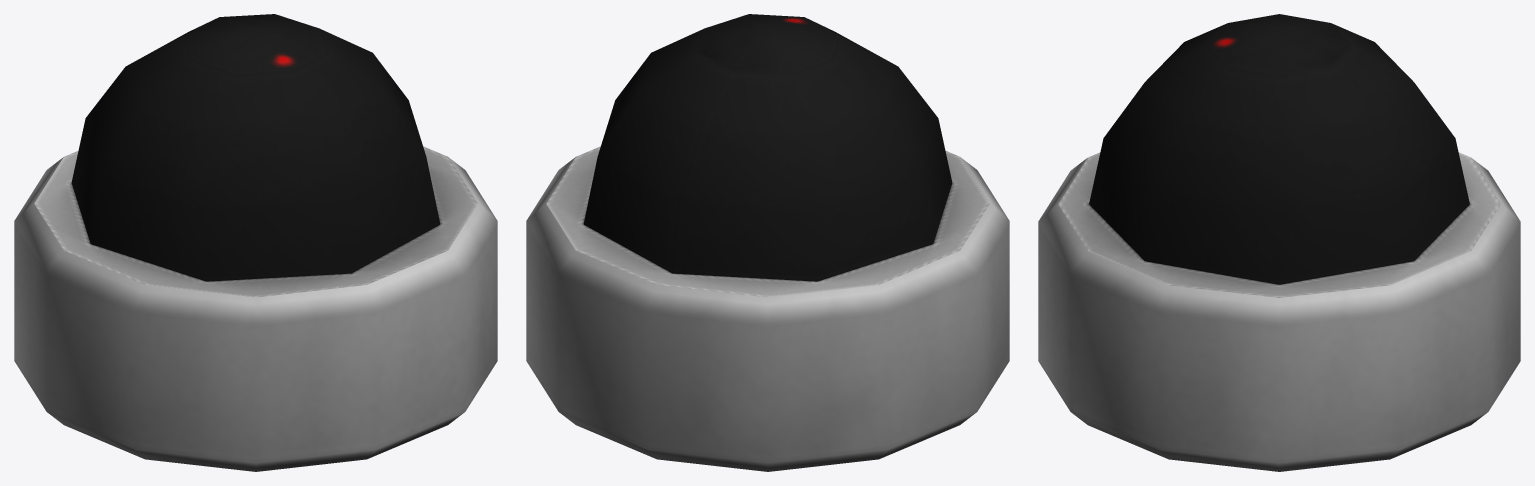
Rendered from securityCamera.fbx.
The picture shows the model from 3 angles, left to right: view 1: azimuth 30°, elevation 25°; view 2: azimuth 150°, elevation 25°; view 3: azimuth 270°, elevation 25°; orthographic projection.
Parts seen in each view (by area): view 1: securityCamera; view 2: securityCamera; view 3: securityCamera.
Part boxes in pixels (bbox=[...]): securityCamera: bbox=[14, 14, 497, 471]; securityCamera: bbox=[526, 14, 1009, 471]; securityCamera: bbox=[1038, 14, 1520, 471].
Bounding box in the file's own units: 0.166 × 0.1316 × 0.166.
